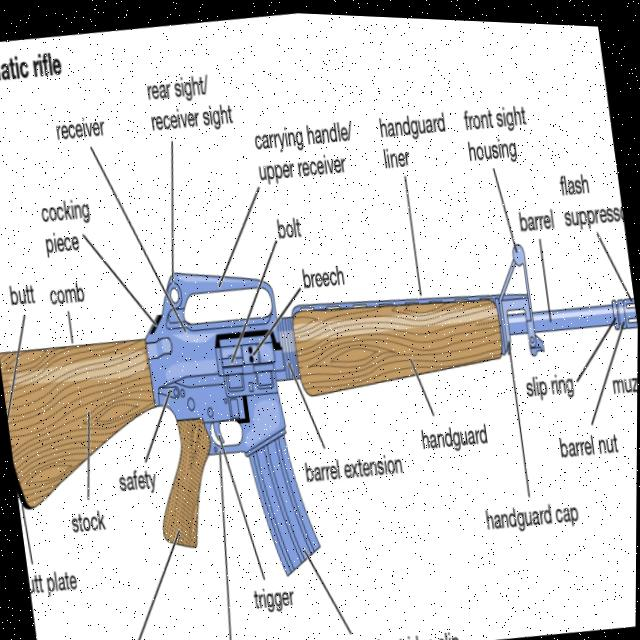firearm: (0, 198, 639, 624)
